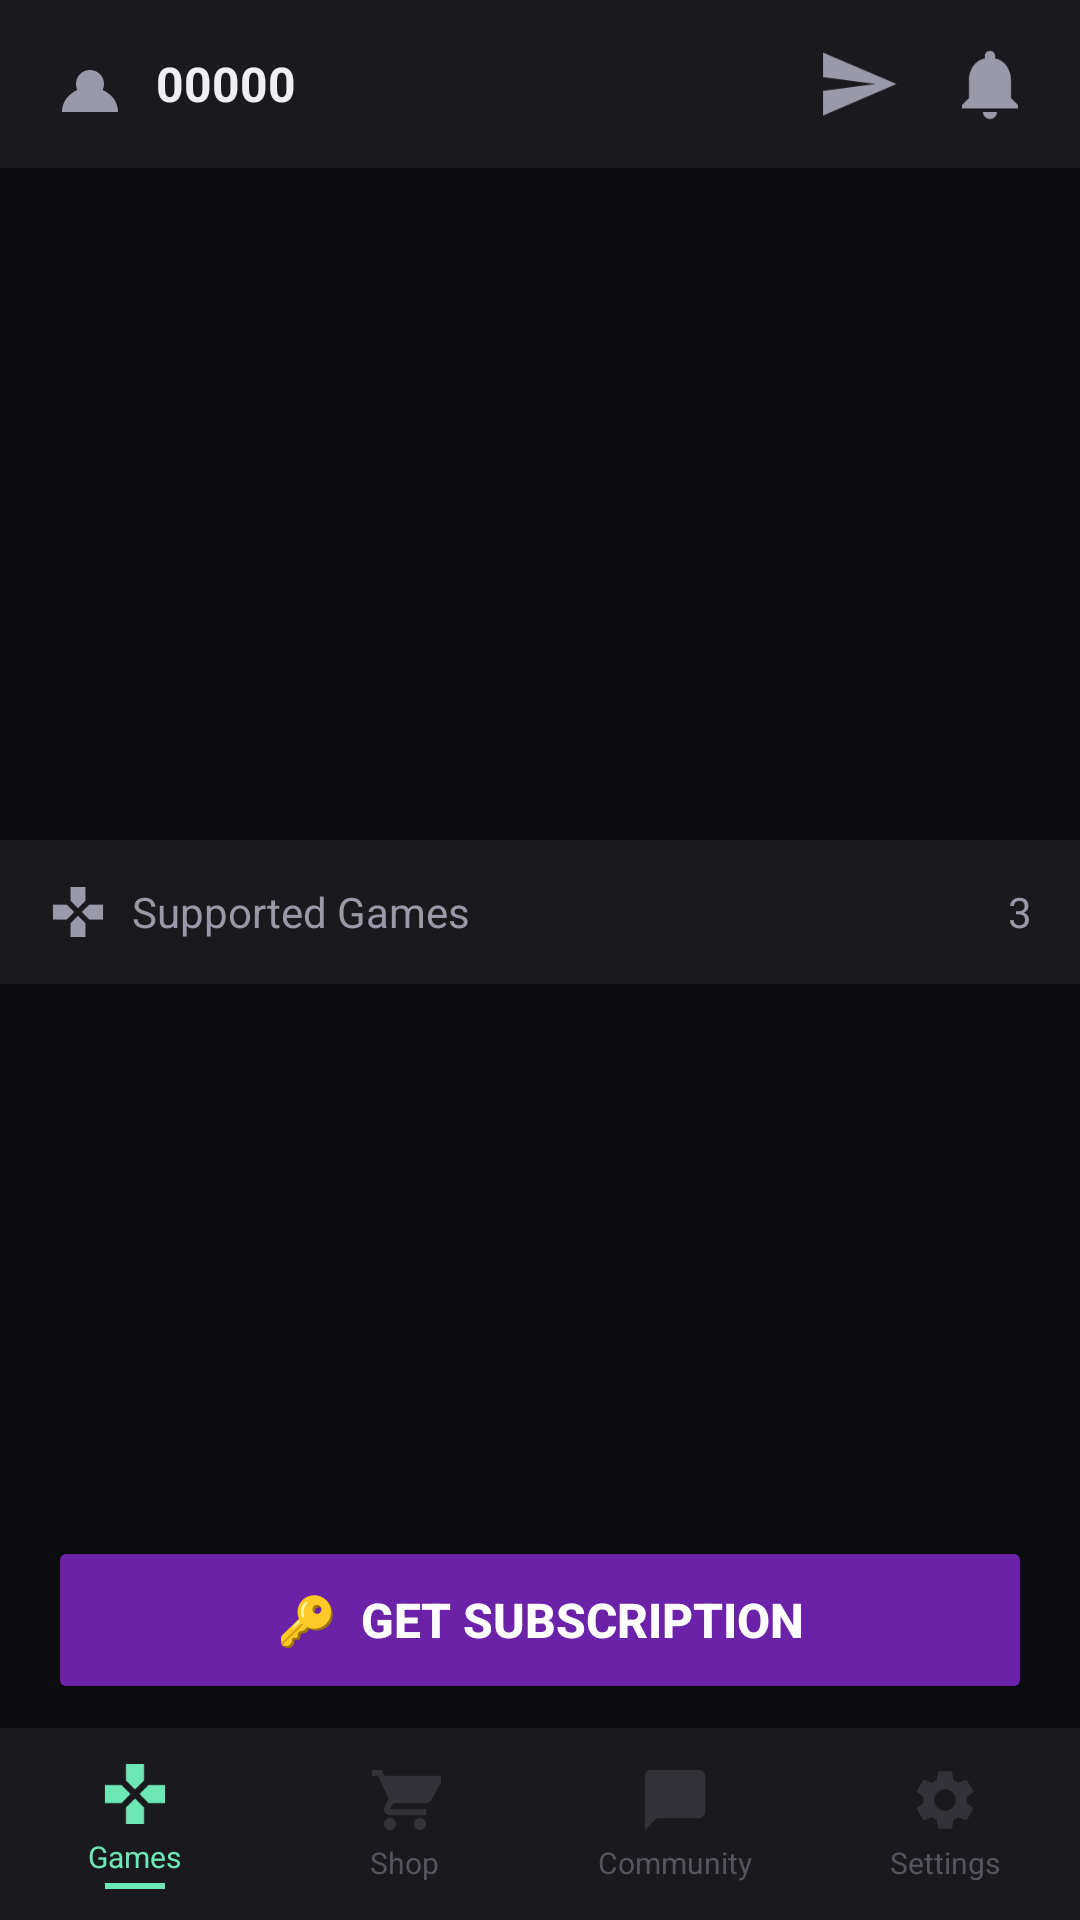

Icons on this 1080×1920 Android screen, each with the point to tap as (x,y):
bell: (990,85)
send: (859,84)
user: (90,91)
